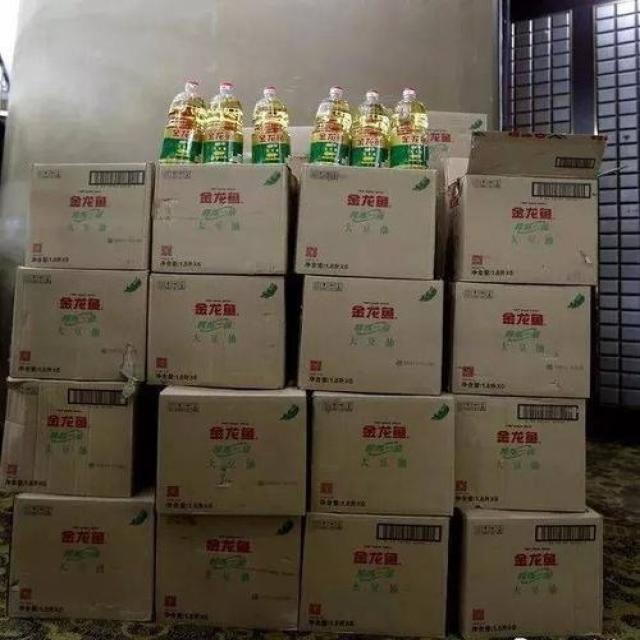box: (443, 129, 630, 287), (5, 487, 156, 621), (454, 505, 602, 640), (155, 386, 307, 517), (297, 511, 451, 638), (310, 391, 456, 518), (297, 276, 444, 395), (445, 281, 594, 398), (154, 517, 303, 631), (293, 164, 438, 281), (0, 377, 140, 496), (151, 163, 298, 275), (8, 265, 147, 382), (145, 275, 285, 389), (456, 396, 588, 513), (24, 162, 154, 270)
